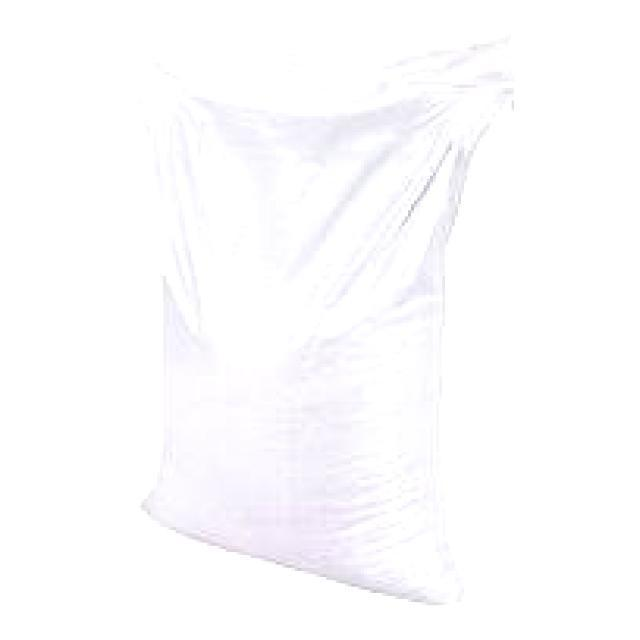gunny_bag: (118, 28, 519, 607)
